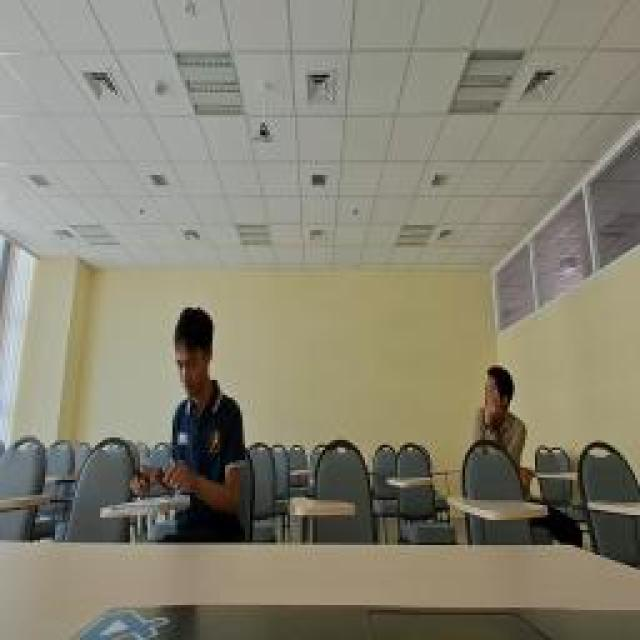study: (132, 300, 248, 542), (462, 355, 532, 507)
